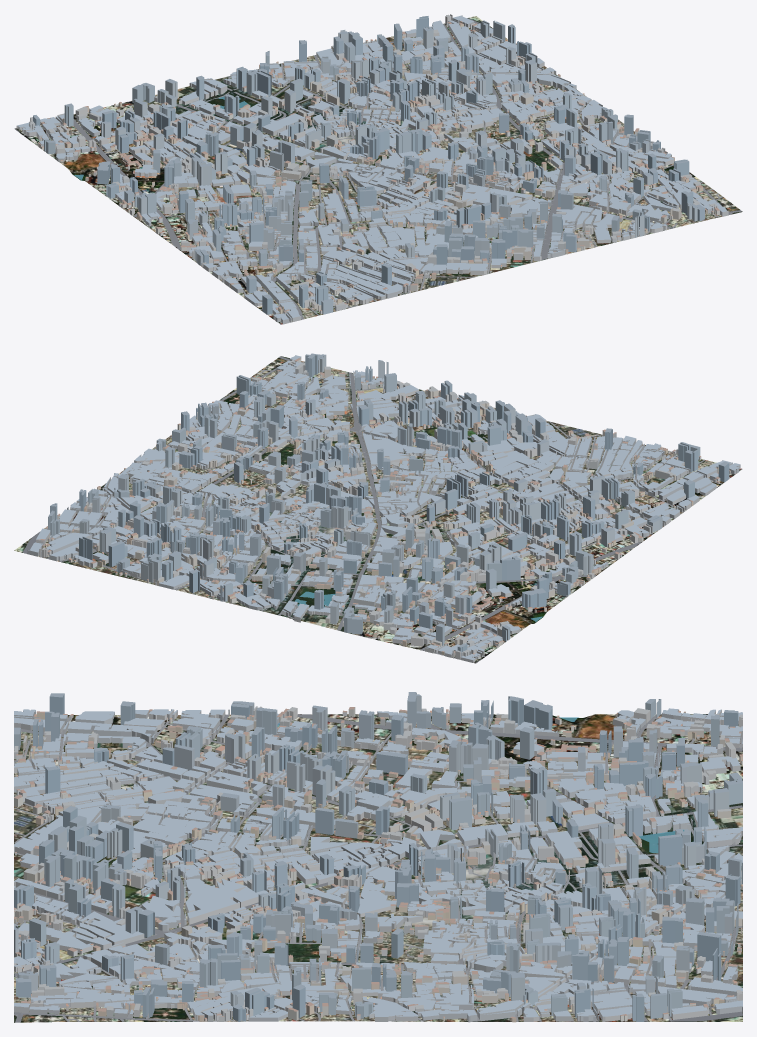
3 views of the same model, one above another, from view 1: azimuth 30°, elevation 25°; view 2: azimuth 150°, elevation 25°; view 3: azimuth 270°, elevation 25° (orthographic). The views are drawn at different scales.
Parts seen in each view (by area): view 1: BLDG_INDUSTRIAL_PORT, BLDG_MODERN_TOWER, TERRAIN, BLDG_APARTMENT, BLDG_SHOPHOUSE, ROAD_METRO, BLDG_TUBE_HOUSE; view 2: BLDG_INDUSTRIAL_PORT, BLDG_MODERN_TOWER, TERRAIN, BLDG_APARTMENT, BLDG_SHOPHOUSE, ROAD_METRO, BLDG_TUBE_HOUSE; view 3: BLDG_INDUSTRIAL_PORT, BLDG_MODERN_TOWER, TERRAIN, BLDG_APARTMENT, BLDG_SHOPHOUSE, ROAD_METRO, BLDG_TUBE_HOUSE.
Part boxes in pixels (bbox=[...]): BLDG_INDUSTRIAL_PORT: bbox=[16, 15, 728, 324]; BLDG_MODERN_TOWER: bbox=[33, 16, 704, 314]; TERRAIN: bbox=[15, 16, 742, 324]; BLDG_APARTMENT: bbox=[29, 14, 718, 311]; BLDG_SHOPHOUSE: bbox=[41, 21, 719, 314]; ROAD_METRO: bbox=[14, 18, 741, 324]; BLDG_TUBE_HOUSE: bbox=[35, 36, 715, 314]; BLDG_INDUSTRIAL_PORT: bbox=[27, 355, 740, 662]; BLDG_MODERN_TOWER: bbox=[48, 353, 729, 656]; TERRAIN: bbox=[14, 356, 741, 663]; BLDG_APARTMENT: bbox=[39, 360, 684, 659]; BLDG_SHOPHOUSE: bbox=[38, 358, 720, 655]; ROAD_METRO: bbox=[23, 356, 742, 663]; BLDG_TUBE_HOUSE: bbox=[47, 361, 730, 654]; BLDG_INDUSTRIAL_PORT: bbox=[14, 708, 742, 1022]; BLDG_MODERN_TOWER: bbox=[14, 692, 742, 1021]; TERRAIN: bbox=[14, 714, 742, 1022]; BLDG_APARTMENT: bbox=[14, 706, 742, 1021]; BLDG_SHOPHOUSE: bbox=[14, 707, 742, 1022]; ROAD_METRO: bbox=[14, 714, 742, 1022]; BLDG_TUBE_HOUSE: bbox=[15, 710, 742, 1021].
Size of the model in its own units: 2000 by 99.25 by 2000.
8 materials, 1 textured.
